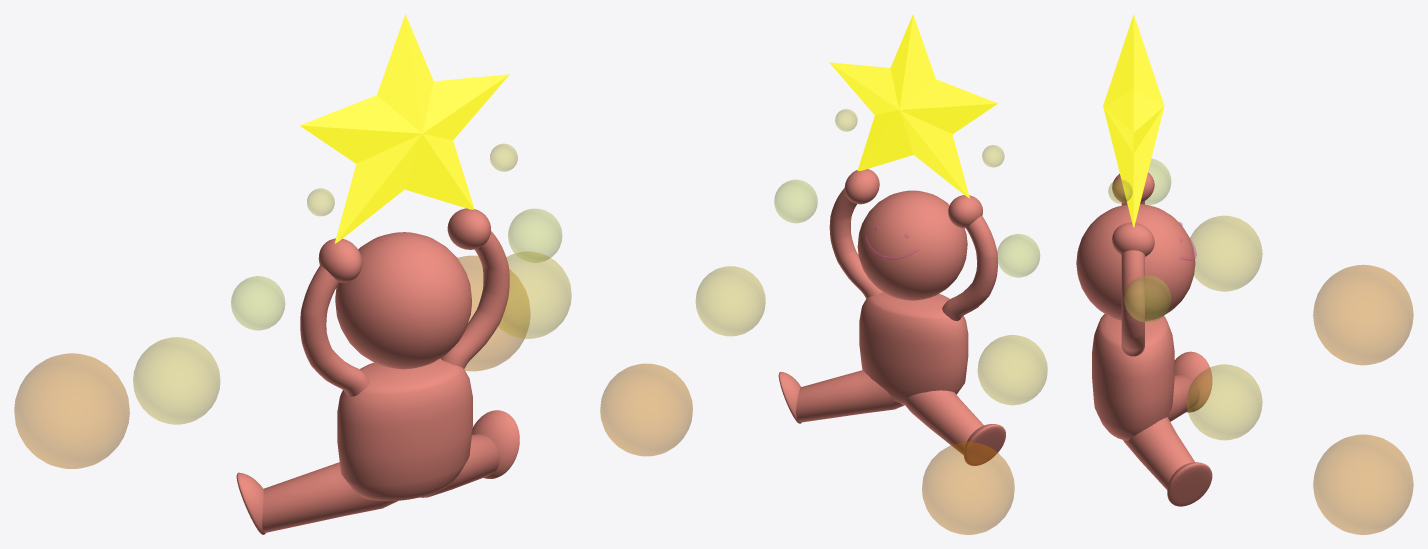
Rendered from IchibanboshiModeling3.glb.
3 views of the same model, side by side, from view 1: azimuth 30°, elevation 25°; view 2: azimuth 150°, elevation 25°; view 3: azimuth 270°, elevation 25° (orthographic). The views are drawn at different scales.
Parts seen in each view (by area): view 1: Cone, Body, Head, BigBall.002, UnderBall.002, LeftLeg, UnderBall.001, LeftArm, RightArm, BigBall.001, Foot, MidBall.002 (+4 smaller); view 2: Cone, Body, Head, BigBall.002, BigBall.001, UnderBall.001, UnderBall.002, RightLeg, LeftLeg, LeftArm, RightArm, Foot (+4 smaller); view 3: Head, Body, BigBall.002, BigBall.001, Cone, UnderBall.001, UnderBall.002, Foot, RightLeg, RightArm, MidBall.001, RightHand (+4 smaller).
Boxes of the visible parts, <box> form: Cone: <box>299,14,509,243</box>; Body: <box>337,358,472,501</box>; Head: <box>335,232,471,369</box>; BigBall.002: <box>14,353,129,468</box>; UnderBall.002: <box>133,337,220,424</box>; LeftLeg: <box>262,462,398,532</box>; UnderBall.001: <box>498,251,571,338</box>; LeftArm: <box>300,265,369,396</box>; RightArm: <box>440,231,509,368</box>; BigBall.001: <box>458,256,530,370</box>; Foot: <box>236,410,519,534</box>; MidBall.002: <box>231,276,284,330</box>; Cone: <box>829,14,997,198</box>; Body: <box>859,292,968,405</box>; Head: <box>857,190,967,300</box>; BigBall.002: <box>922,442,1014,534</box>; BigBall.001: <box>600,363,692,455</box>; UnderBall.001: <box>696,266,765,335</box>; UnderBall.002: <box>978,335,1047,404</box>; RightLeg: <box>796,370,904,422</box>; LeftLeg: <box>904,390,983,455</box>; LeftArm: <box>942,216,997,320</box>; RightArm: <box>829,188,882,298</box>; Foot: <box>778,372,1005,465</box>; Head: <box>1076,204,1195,321</box>; Body: <box>1092,314,1174,440</box>; BigBall.002: <box>1313,265,1413,364</box>; BigBall.001: <box>1313,434,1413,534</box>; Cone: <box>1103,14,1164,227</box>; UnderBall.001: <box>1187,364,1262,439</box>; UnderBall.002: <box>1190,216,1262,291</box>; Foot: <box>1167,351,1212,506</box>; RightLeg: <box>1123,417,1203,501</box>; RightArm: <box>1121,250,1144,356</box>; MidBall.001: <box>1124,275,1170,322</box>; RightHand: <box>1112,222,1154,256</box>.
Bounding box in the file's own units: 2.03 × 1.98 × 1.36.
